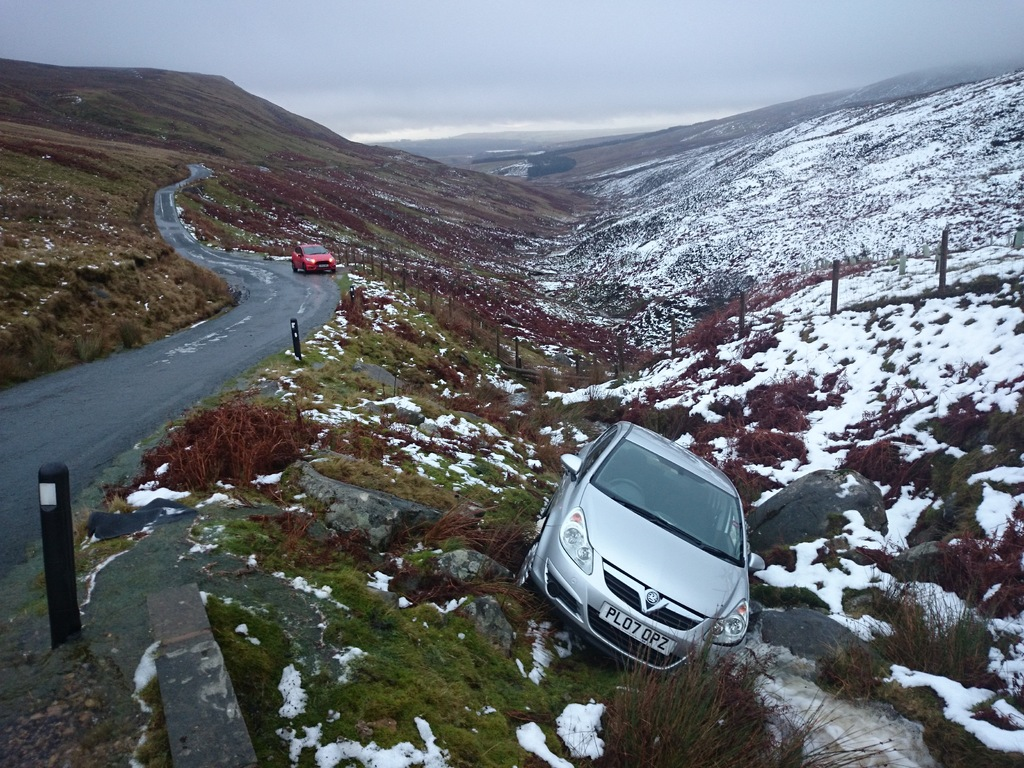Car: (525, 429, 746, 668), (289, 238, 334, 275)
